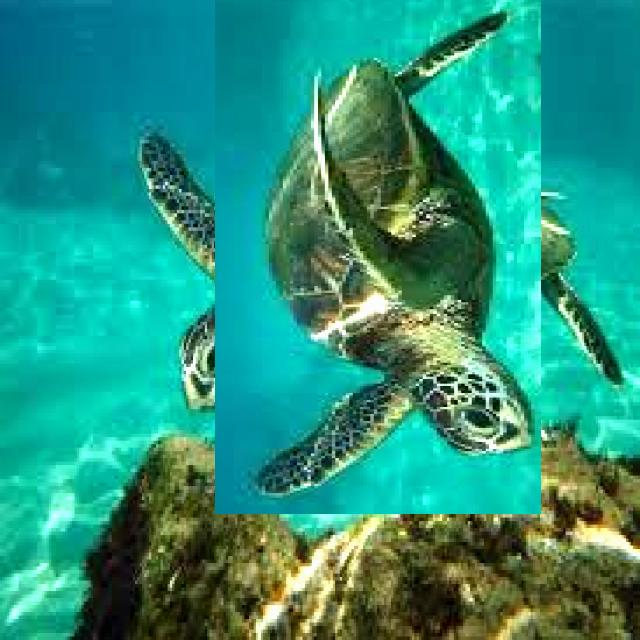Sea turtle: (167, 45, 589, 467)
